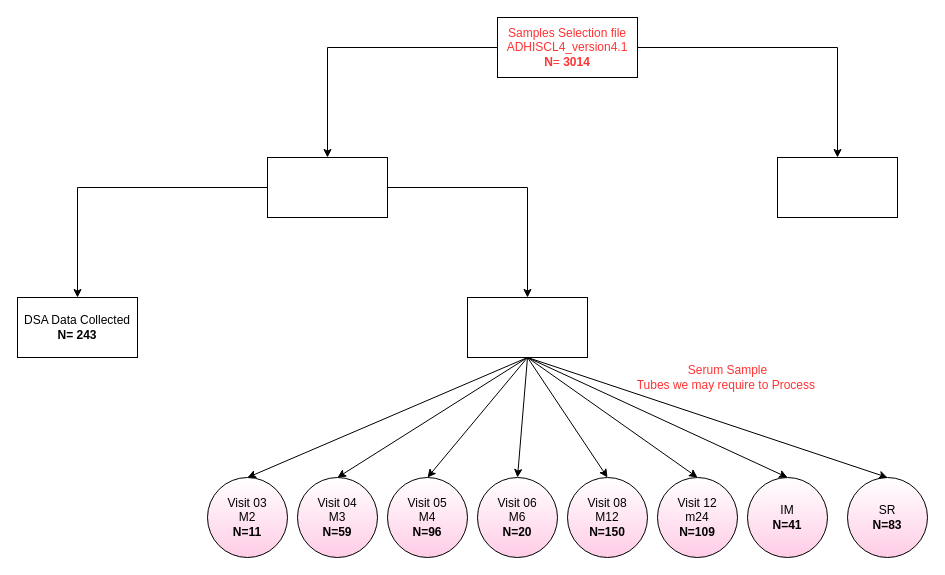
Some shapes in this 945 by 575 pixel diagram are drawn without their labels. Here are the shapes that lost their labels. From the top down, the centre of each, then its label:
the point at 327,187: Biopsy Done N=812
the point at 837,187: Non-Biopsy Time point N=2202
the point at 527,327: DSA Data Missing N=569
